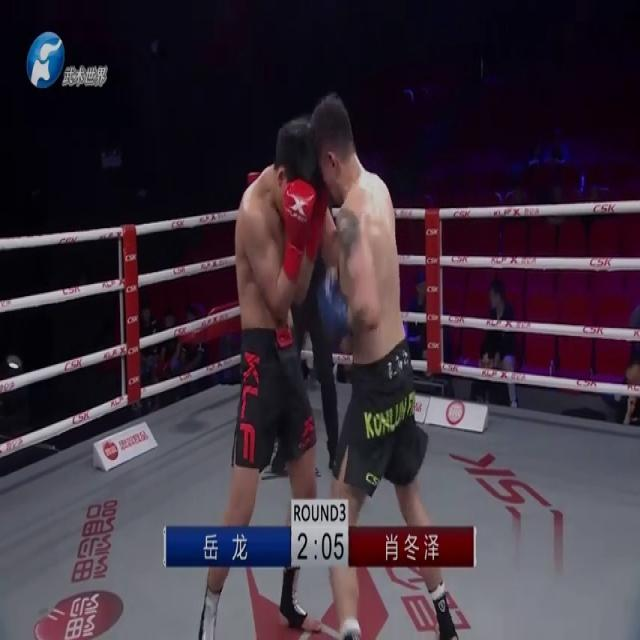fight: (202, 79, 476, 638)
